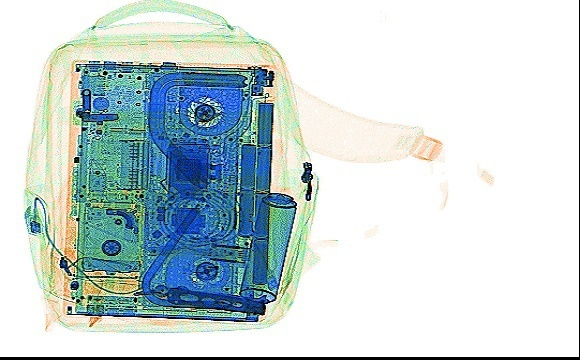knife: (162, 283, 266, 316)
pressure: (237, 184, 298, 304)
